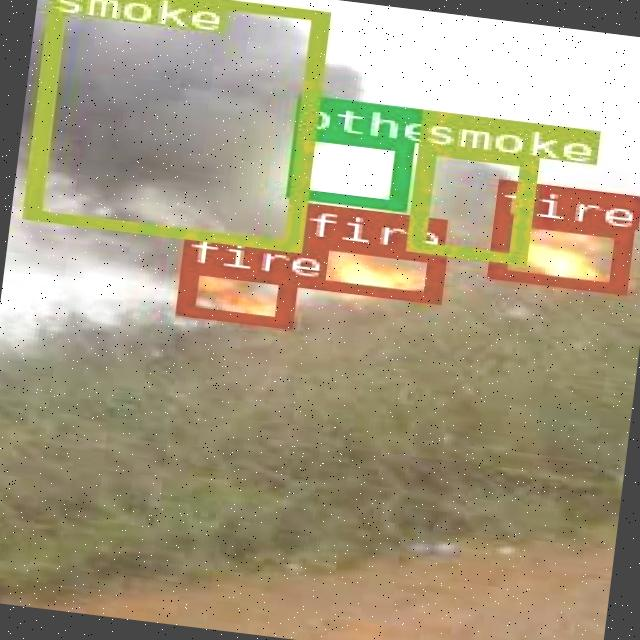fire: (485, 211, 628, 292), (290, 235, 441, 301), (175, 262, 292, 325)
smoke: (20, 0, 324, 250), (404, 142, 536, 262)
